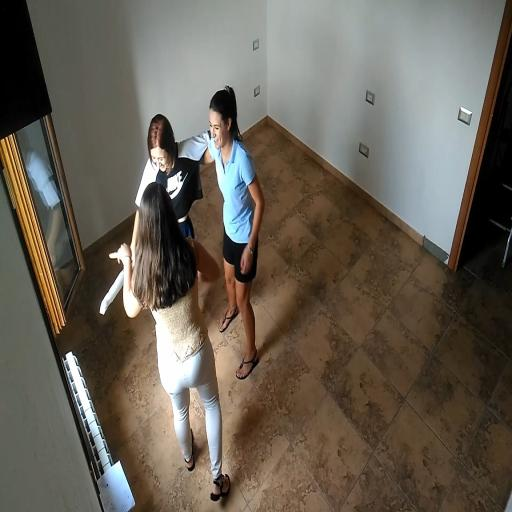nao-violencia: (123, 76, 278, 386)
